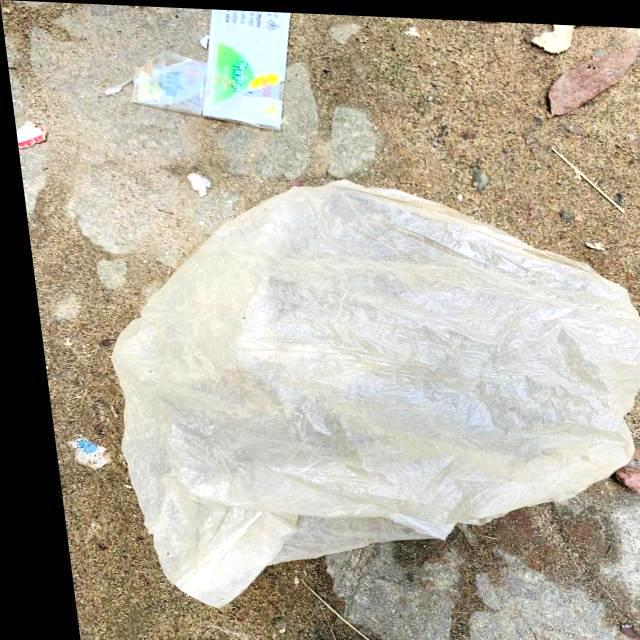polythene: (51, 151, 640, 632)
